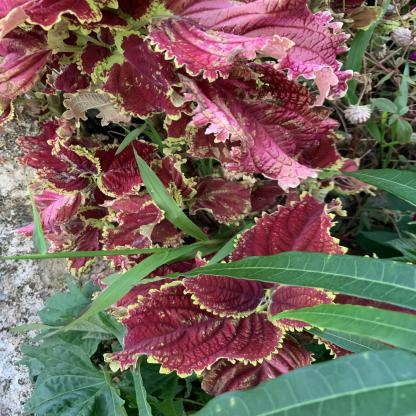Bunga Coleus: (6, 4, 340, 195), (107, 283, 313, 358)
